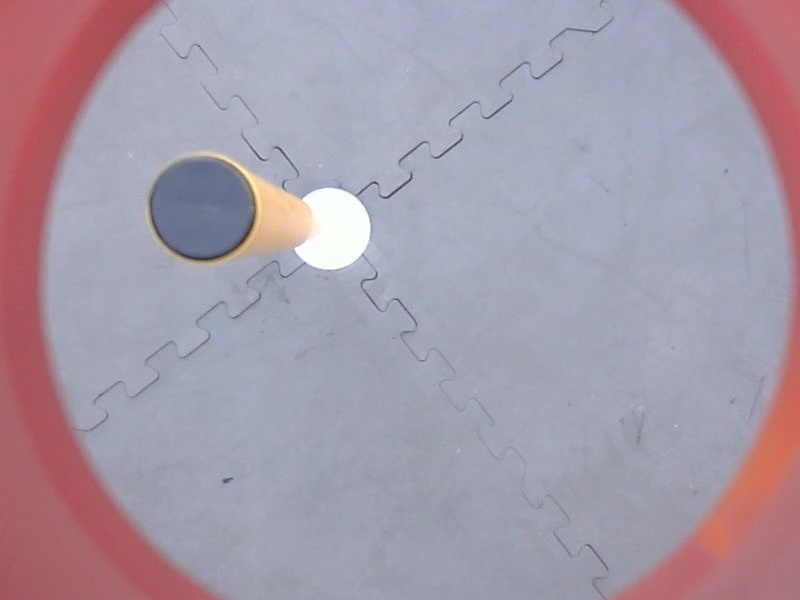tip: (143, 149, 267, 269)
